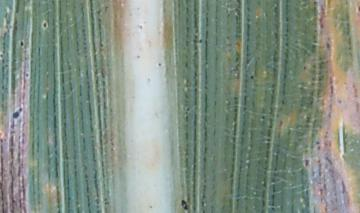tarspot: (181, 199, 189, 210), (12, 111, 20, 119), (41, 21, 48, 29), (304, 158, 310, 167), (302, 64, 307, 72), (24, 72, 30, 78), (17, 106, 23, 112), (20, 40, 25, 47), (249, 74, 254, 80), (198, 38, 203, 44), (1, 53, 4, 59)
